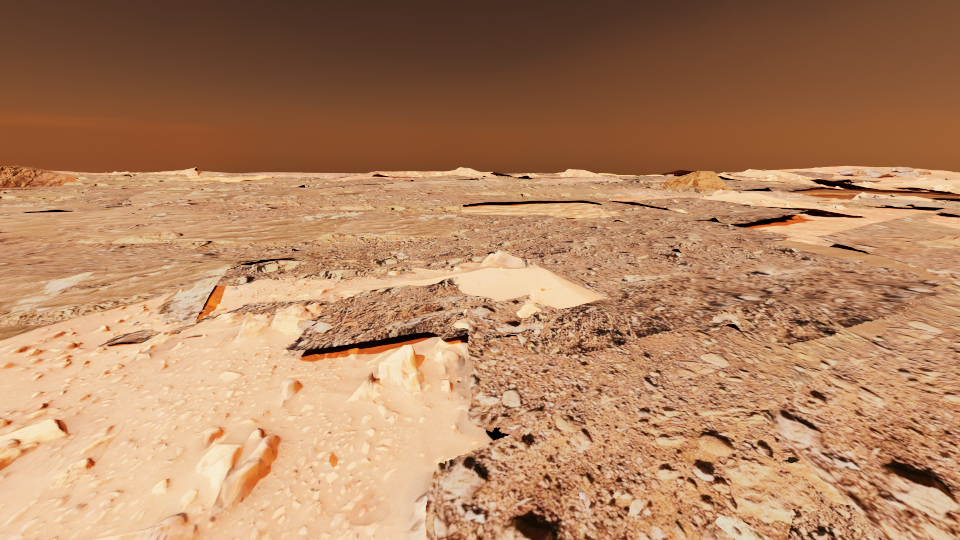bedrock: (68, 197, 948, 356), (644, 407, 886, 539), (224, 277, 495, 350), (544, 174, 717, 195), (279, 175, 551, 188), (0, 194, 136, 212), (809, 194, 959, 208), (722, 179, 821, 199), (912, 368, 959, 410), (455, 189, 628, 198), (311, 204, 462, 214), (871, 234, 959, 248), (164, 314, 221, 333), (99, 329, 161, 346), (786, 171, 874, 182), (251, 173, 359, 180), (75, 173, 181, 180), (61, 182, 205, 187), (233, 200, 326, 205), (150, 186, 216, 190), (506, 173, 541, 178), (725, 173, 753, 178), (332, 189, 364, 192), (534, 173, 560, 175), (384, 231, 407, 233), (245, 182, 291, 183)
hole: (805, 193, 857, 198)
rocks: (0, 166, 76, 187), (664, 171, 729, 190), (835, 167, 930, 177)
sand: (0, 187, 456, 242), (730, 199, 959, 291), (0, 262, 233, 324), (776, 166, 959, 184), (461, 200, 623, 219), (162, 171, 296, 181), (715, 516, 772, 539), (841, 320, 897, 340), (787, 368, 827, 390), (810, 187, 939, 193), (314, 172, 409, 180), (0, 324, 47, 340), (936, 293, 959, 300), (828, 358, 843, 365), (714, 533, 730, 539), (482, 172, 497, 176)
soil: (0, 252, 959, 539), (134, 175, 703, 224), (0, 236, 457, 276), (815, 213, 959, 294), (0, 179, 329, 196), (49, 218, 230, 232), (578, 265, 667, 293), (788, 188, 959, 201), (60, 171, 187, 177), (732, 177, 804, 187), (773, 176, 833, 187), (209, 172, 306, 177), (455, 214, 520, 221), (389, 177, 470, 182), (868, 185, 927, 191), (64, 283, 111, 290), (402, 345, 421, 356), (797, 195, 831, 200), (935, 208, 959, 215), (840, 182, 867, 188), (534, 303, 556, 310), (768, 204, 797, 209), (389, 173, 433, 176), (329, 295, 350, 301), (662, 171, 685, 176), (748, 189, 774, 193), (314, 173, 354, 175), (722, 190, 746, 193), (786, 214, 801, 217), (0, 201, 18, 203)
